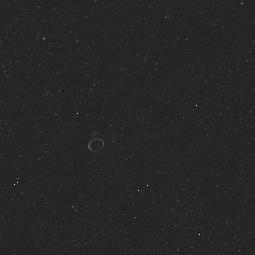debris: (84, 130, 108, 158)
